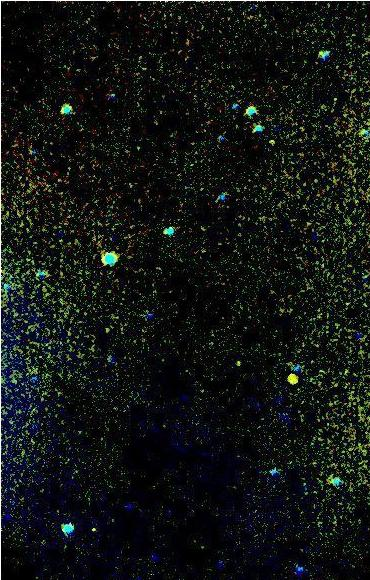star: (278, 363, 308, 393)
